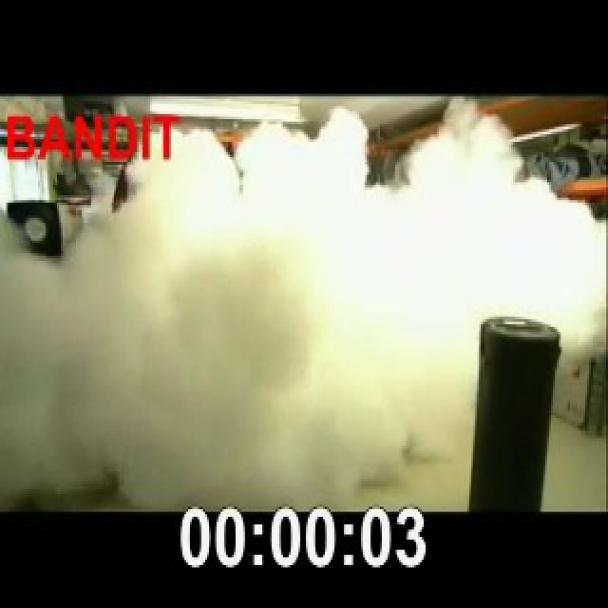smoke: (15, 99, 600, 487)
